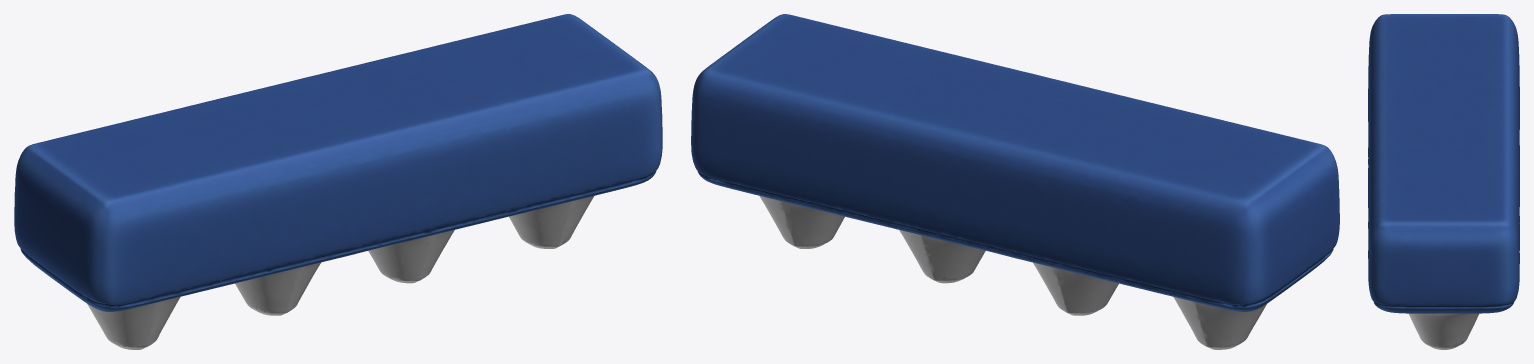
The model's file is Meshy_AI_Blue_Metal_Ice_Tray_1016093208_texture.fbx.
The picture shows the model from 3 angles, left to right: view 1: azimuth 30°, elevation 25°; view 2: azimuth 150°, elevation 25°; view 3: azimuth 270°, elevation 25°; orthographic projection. The views are drawn at different scales.
Visible parts, largest first — view 1: Mesh_0; view 2: Mesh_0; view 3: Mesh_0.
Part boxes in pixels (x1=…): Mesh_0: x1=14, y1=14, x2=662, y2=349; Mesh_0: x1=691, y1=14, x2=1339, y2=349; Mesh_0: x1=1368, y1=14, x2=1519, y2=349.
Bounding box in the file's own units: 190 × 58.35 × 54.58.
1 material, 1 textured.
